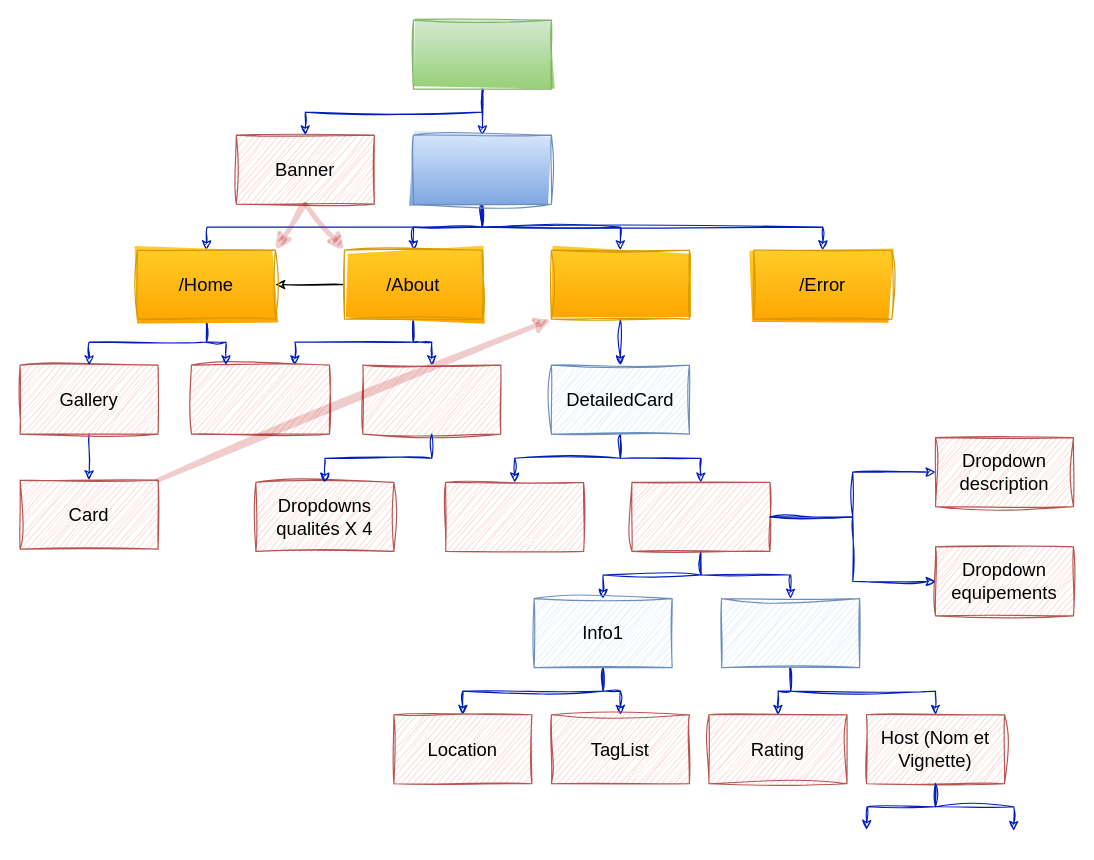
This 1094x860 diagram has some shape labels left out. Here are the shapes that lost their labels. From the top down, the centre of each, then its label:
point 481,54: ROOT
point 481,169: Routes
point 619,284: /FicheLogement
point 259,399: ImageIntro
point 431,399: AboutQualityList
point 514,516: Image
point 700,516: Description
point 790,632: Info2
